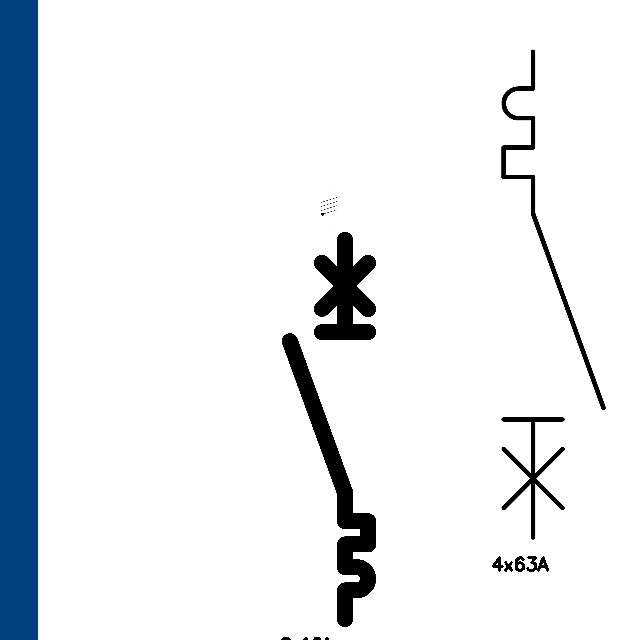interruptor_termomagnetico: (491, 39, 616, 550), (280, 230, 378, 629)
